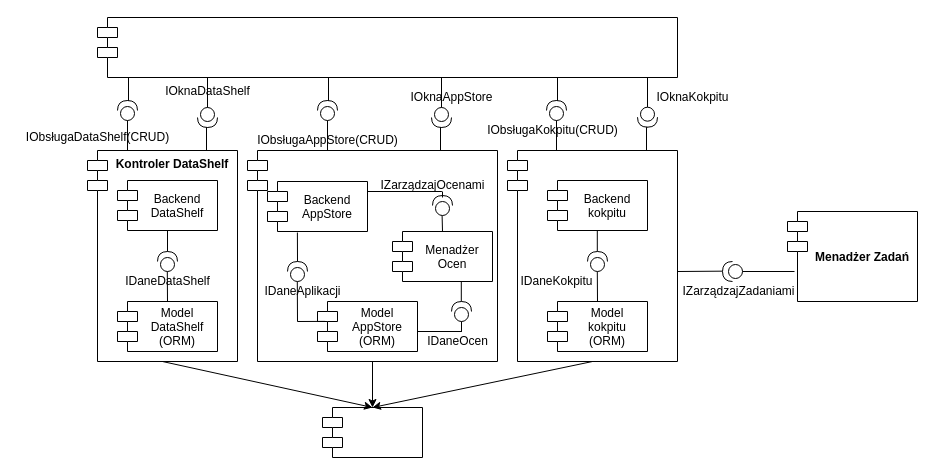
Some shapes in this 935 by 475 pixel diagram are drawn without their labels. Here are the shapes that lost their labels. From the top down, the box of each, then its label:
(96, 16, 678, 78): Widok aplikacji (Frontend)
(246, 150, 498, 362): Kontroler AppStore
(506, 150, 678, 362): Kontroler kokpitu
(322, 406, 422, 458): Baza danych
